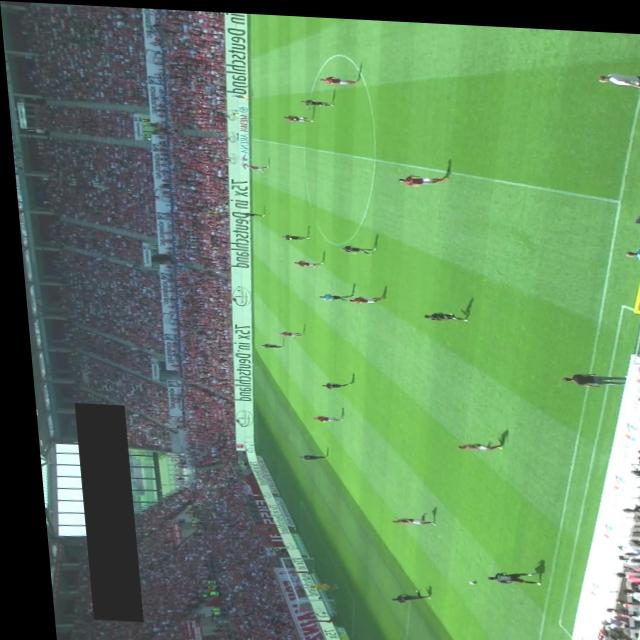goalkeeper: (301, 579, 329, 587)
player: (379, 583, 422, 601), (476, 565, 531, 579), (395, 169, 446, 183), (448, 436, 495, 446), (417, 307, 463, 317), (381, 512, 426, 522), (334, 240, 372, 251), (299, 94, 333, 105), (343, 290, 380, 300), (319, 72, 358, 81), (304, 411, 336, 419), (314, 377, 343, 385), (243, 161, 266, 171), (289, 256, 320, 263), (281, 111, 311, 118), (276, 230, 305, 237), (291, 450, 319, 457), (272, 327, 299, 334), (255, 340, 276, 346), (241, 209, 261, 214)
referee: (313, 289, 347, 298), (230, 91, 250, 96)
